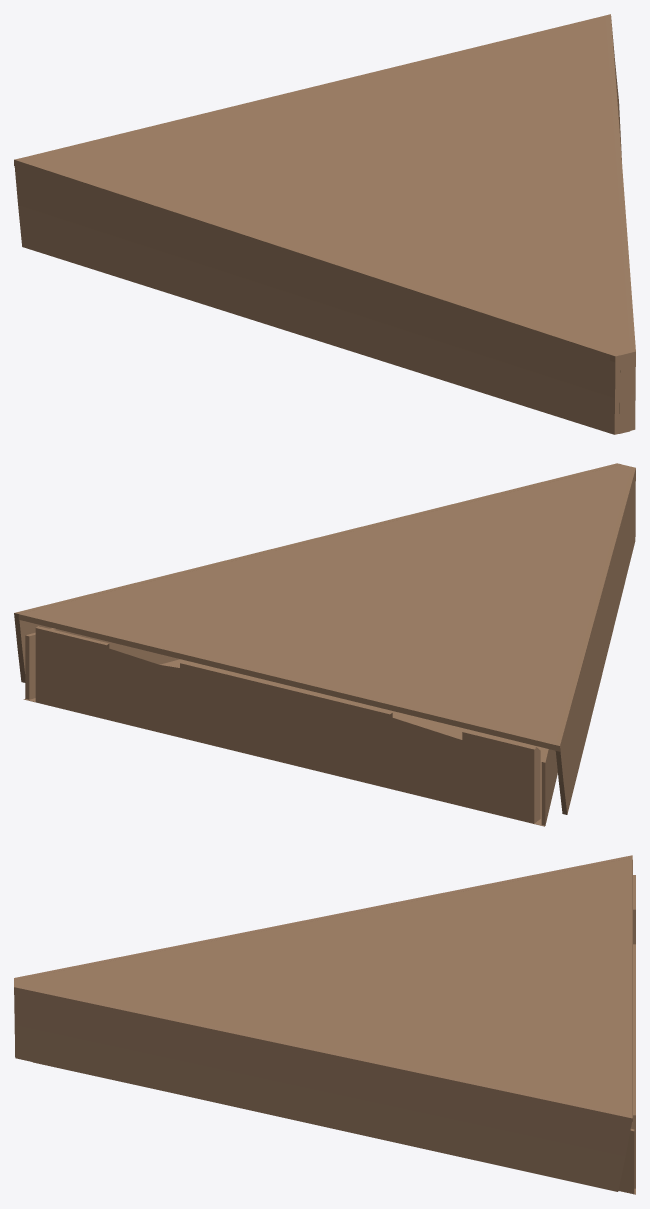
The model's file is pizzaTrianglefbx.fbx.
The picture shows the model from 3 angles, top to bottom: view 1: azimuth 30°, elevation 25°; view 2: azimuth 150°, elevation 25°; view 3: azimuth 270°, elevation 25°; orthographic projection. The views are drawn at different scales.
Visible parts, largest first — view 1: Box_top; view 2: Box_top, Box; view 3: Box_top, Box.
Boxes of the visible parts, x1=… form: Box_top: x1=14, y1=14, x2=635, y2=434; Box_top: x1=14, y1=463, x2=635, y2=814; Box: x1=23, y1=626, x2=557, y2=826; Box_top: x1=14, y1=855, x2=632, y2=1191; Box: x1=32, y1=875, x2=635, y2=1194.
Bounding box in the file's own units: 33.01 × 4.78 × 32.96.
